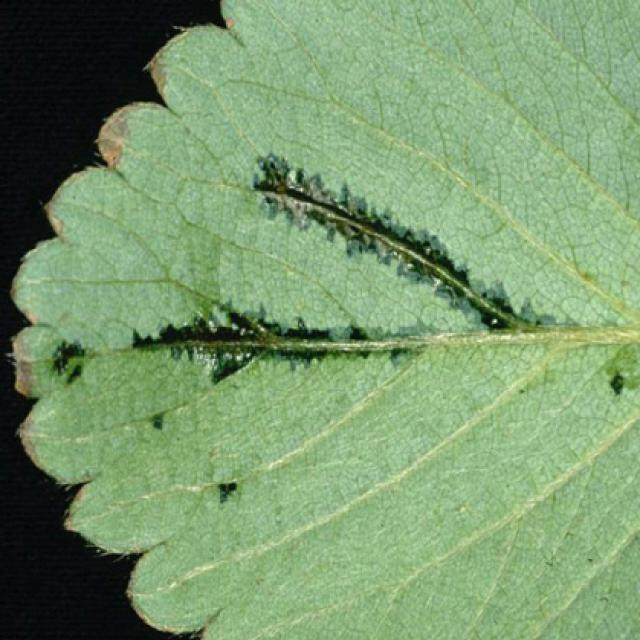Angular Leafspot: (41, 150, 638, 510)
